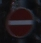No entry: (5, 6, 36, 38)
